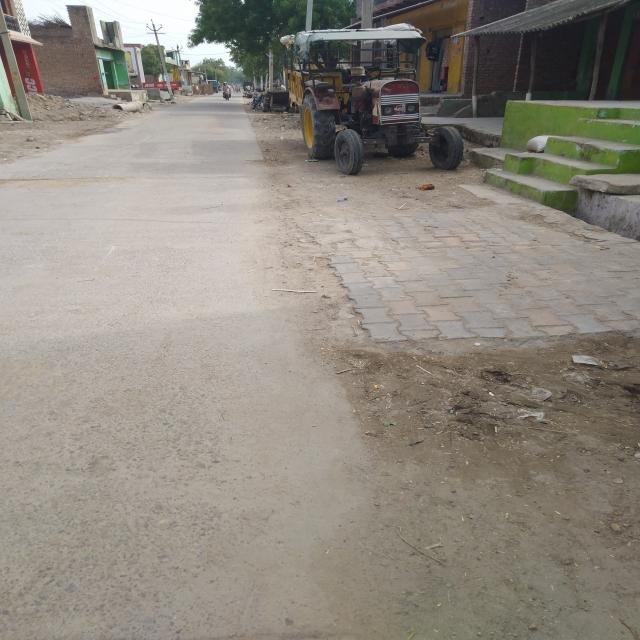Tractor: (278, 21, 469, 176)
